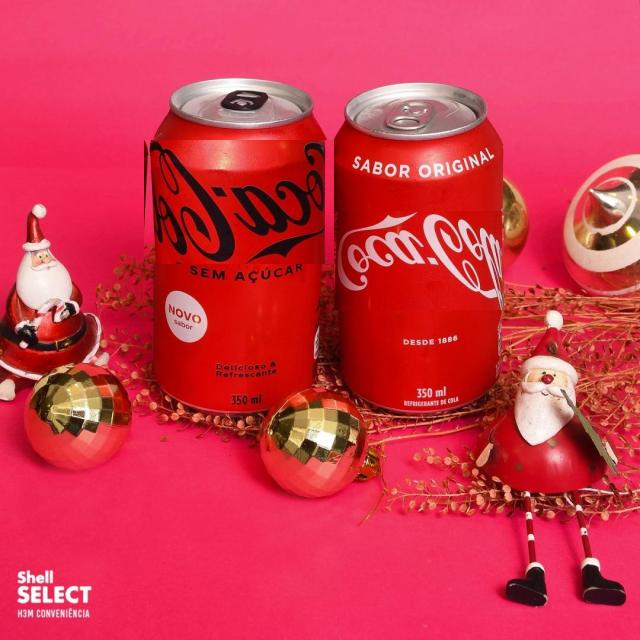coca-cola: (144, 140, 334, 264), (334, 211, 504, 310)
